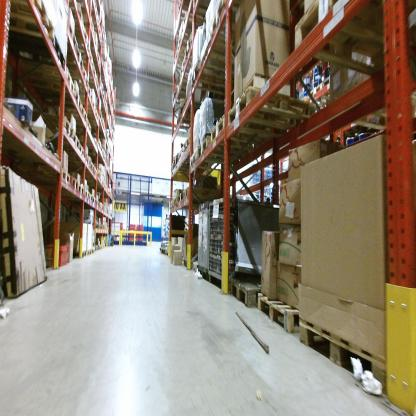pallet: (292, 1, 414, 80), (291, 306, 389, 395), (227, 81, 322, 135), (211, 105, 278, 161), (2, 18, 66, 75), (256, 287, 305, 344), (210, 2, 263, 46), (10, 61, 76, 94), (197, 134, 270, 163), (1, 1, 55, 40), (186, 149, 248, 176), (32, 80, 83, 110), (189, 64, 246, 89), (229, 275, 263, 313), (178, 102, 216, 131), (21, 164, 70, 185), (174, 1, 223, 22), (39, 113, 75, 137), (55, 45, 88, 71), (63, 21, 91, 51), (176, 75, 205, 102), (50, 128, 82, 150), (55, 103, 90, 123), (183, 184, 215, 203), (67, 79, 94, 100), (61, 141, 88, 161), (57, 3, 85, 22), (180, 57, 202, 80), (184, 38, 210, 57), (180, 132, 200, 155), (68, 68, 92, 87), (173, 151, 197, 170), (74, 163, 99, 178), (64, 171, 79, 192), (75, 119, 93, 134), (181, 256, 196, 272), (170, 162, 184, 175), (76, 179, 86, 196), (71, 249, 87, 259), (82, 185, 91, 202), (178, 189, 186, 203), (85, 152, 91, 170), (158, 246, 169, 254), (91, 159, 97, 173), (173, 194, 178, 210), (91, 193, 96, 207), (86, 248, 92, 257), (94, 221, 99, 231), (168, 200, 175, 207), (95, 244, 100, 253), (89, 190, 92, 203), (91, 246, 94, 258), (96, 200, 99, 208)
small_load_carrier: (45, 245, 70, 269)
stillage: (208, 196, 273, 289)
